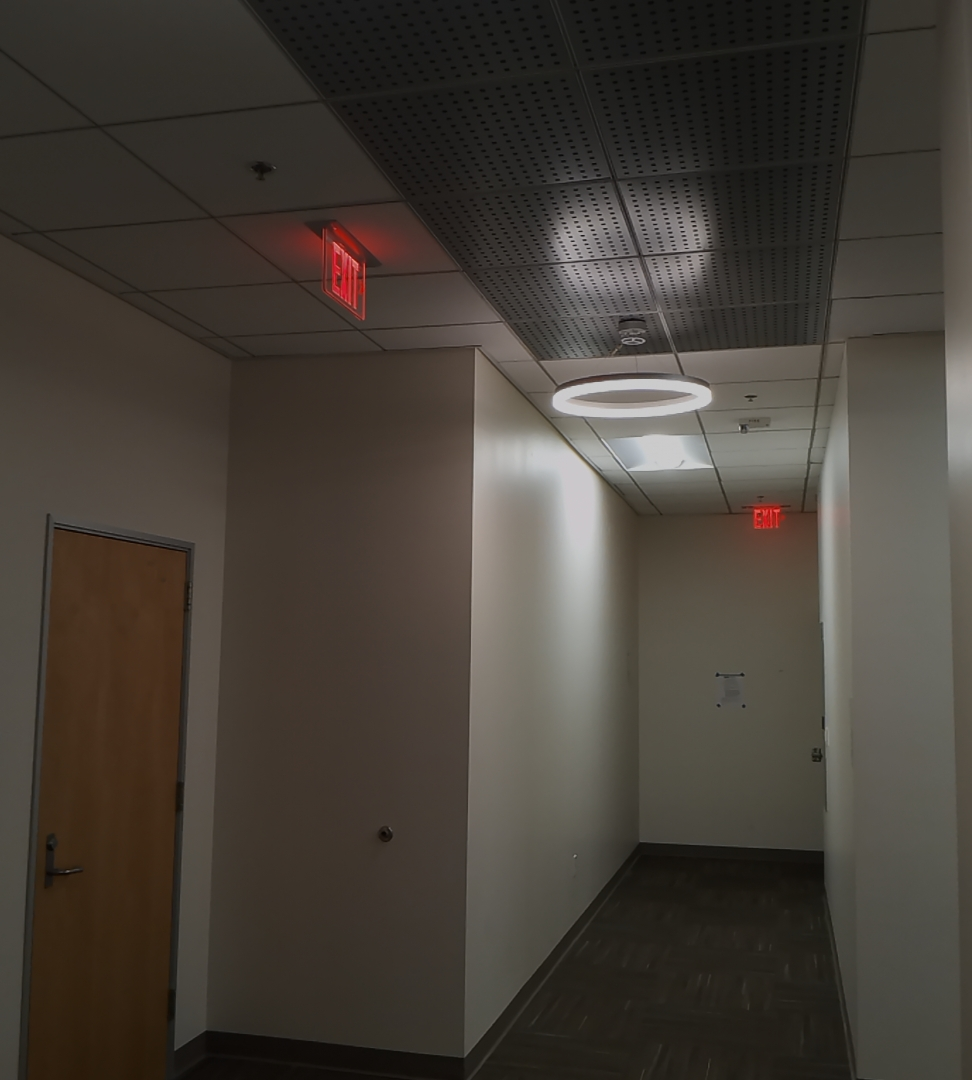emergency_exit: (319, 220, 370, 322), (750, 503, 785, 531)
